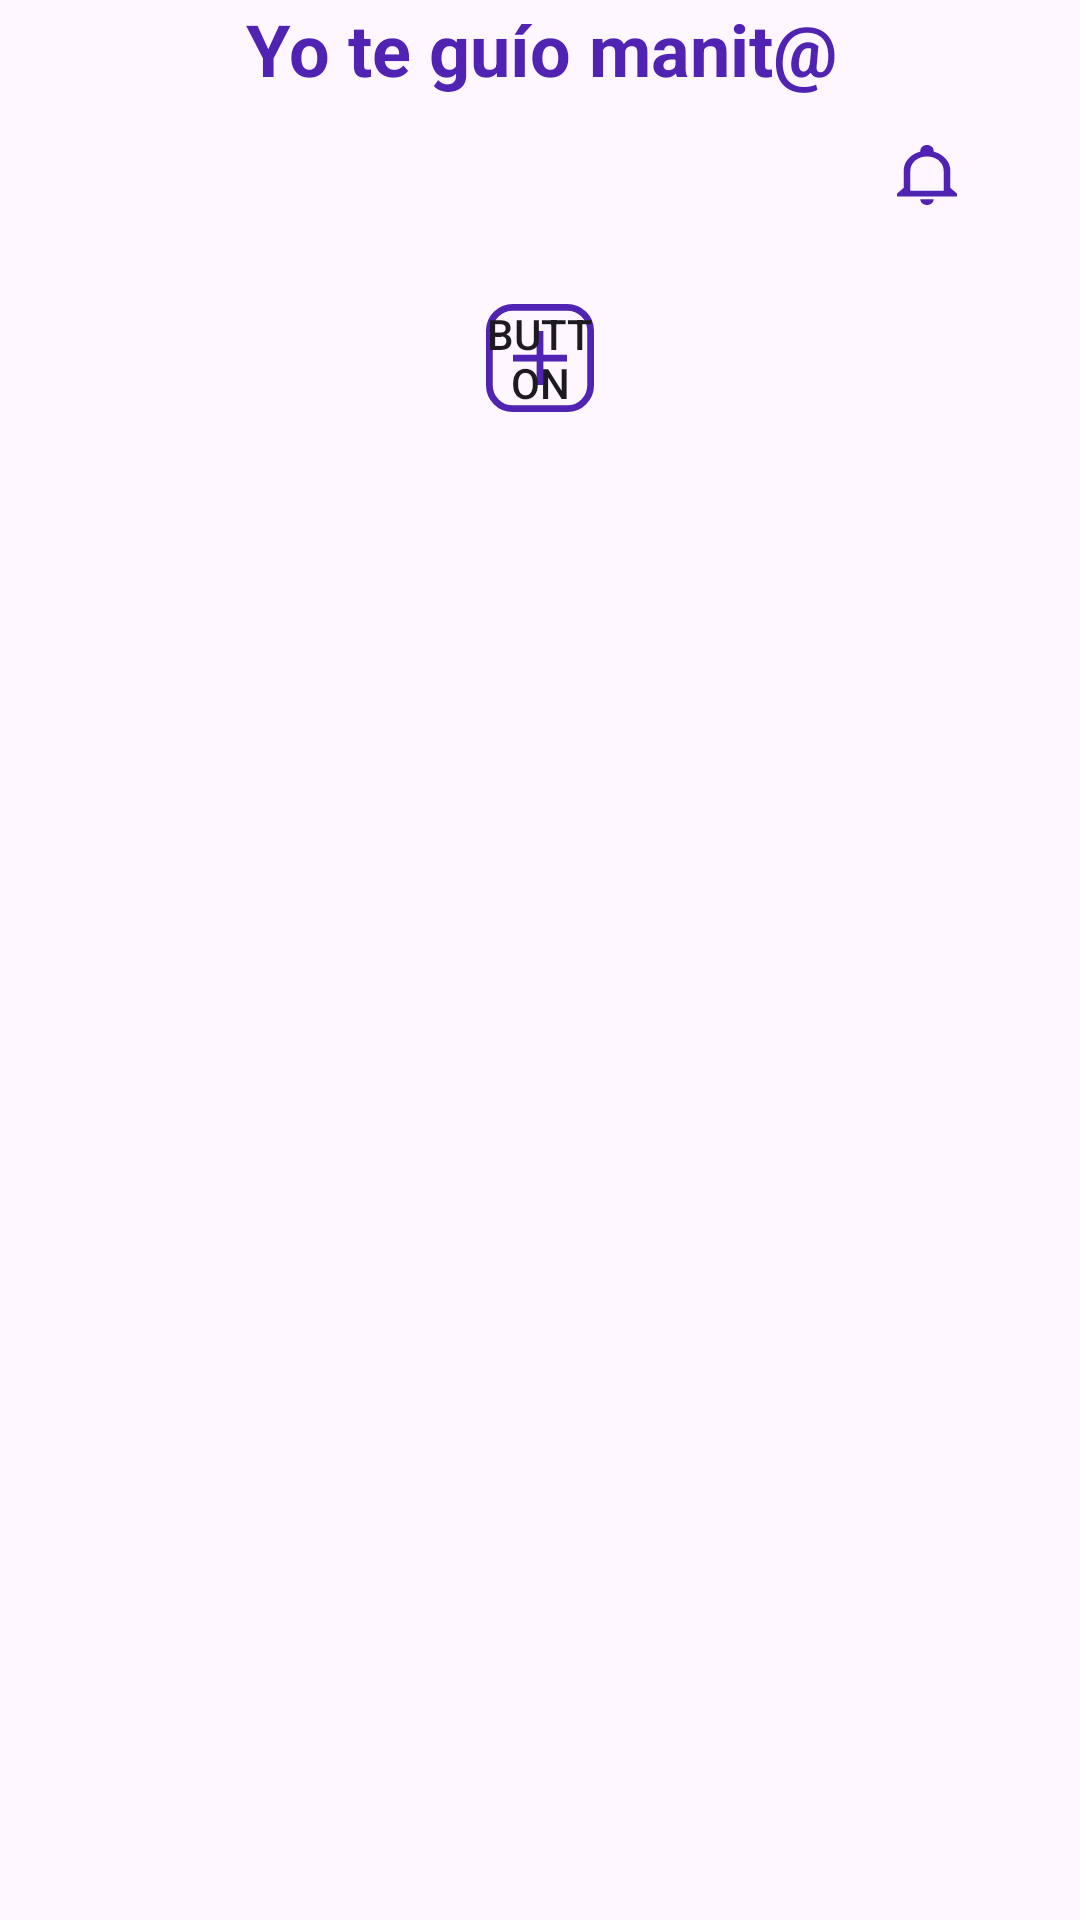

Where icons sit on this 1080×1920 app screen, as (x1, y1, x2, y2):
bell: (897, 145, 957, 205)
